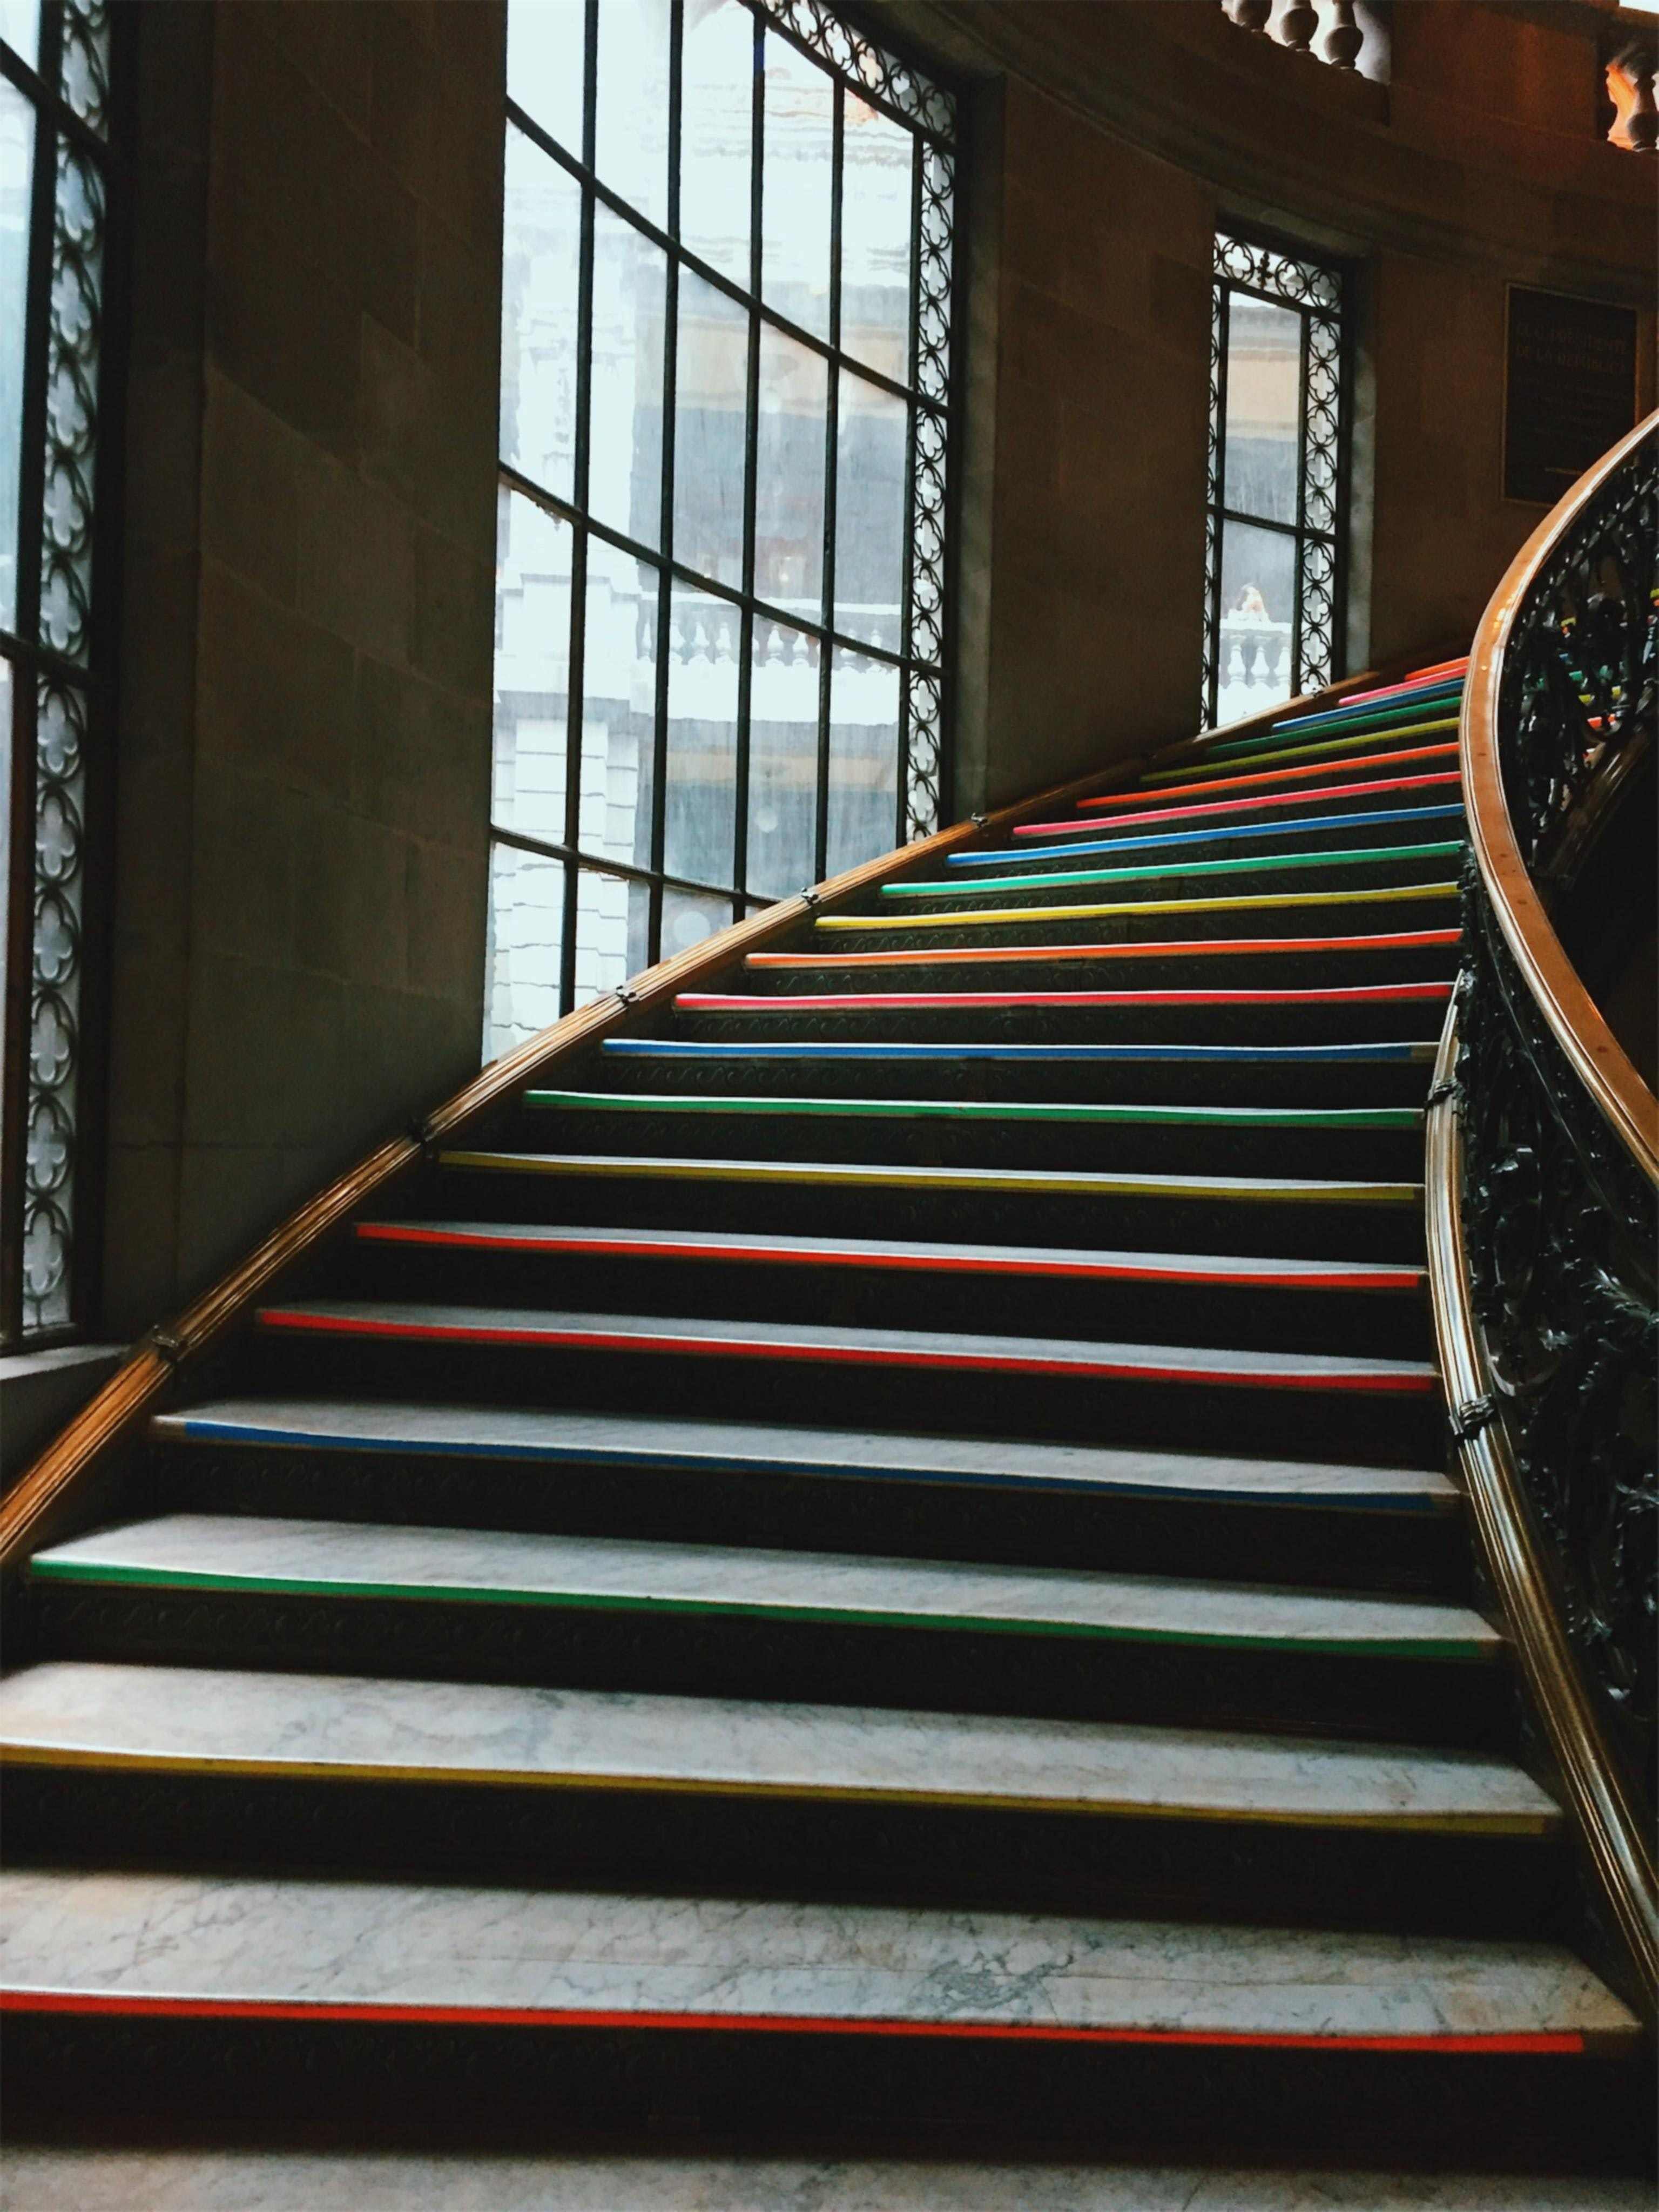upstairs: (117, 1489, 1483, 2212)
